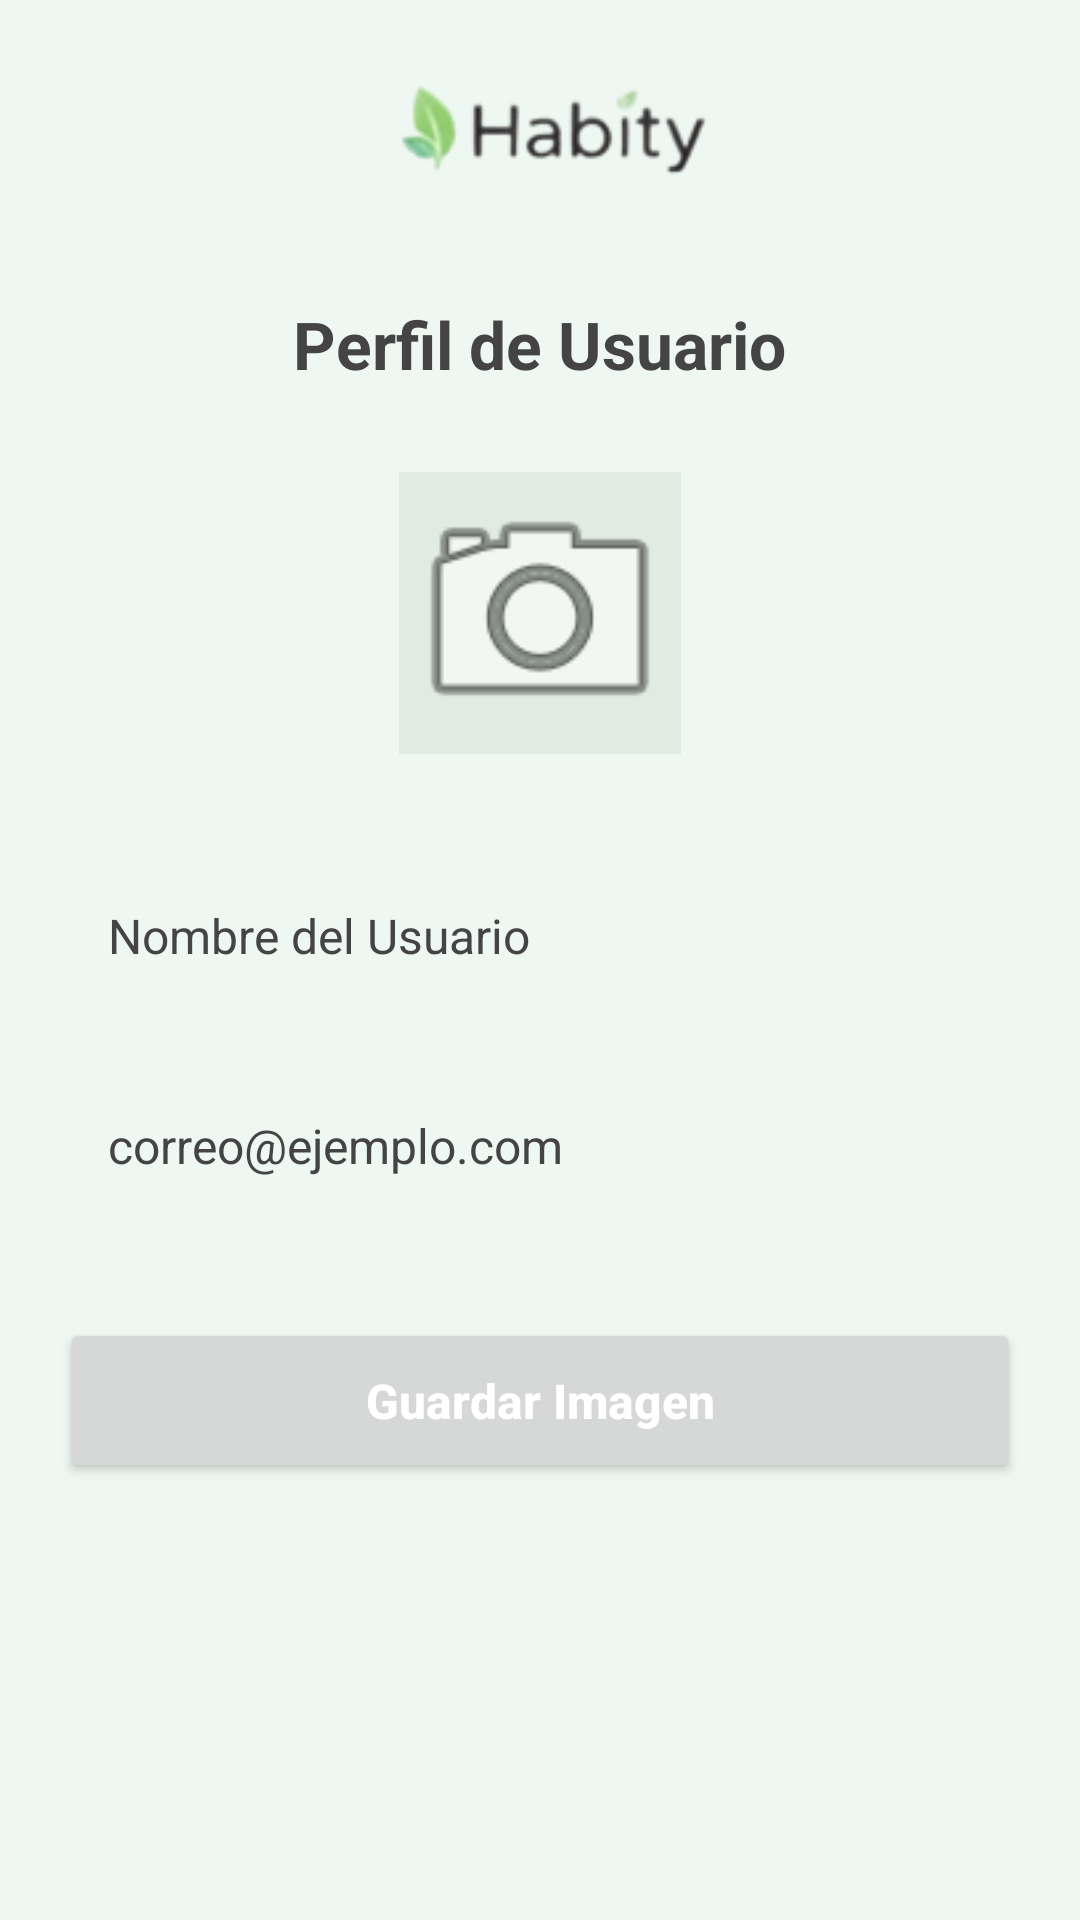

Screen size 1080*1920. Icon name, then its box in pixels as (x1, y1, x2, y2):
camera: (399, 472, 681, 754)
